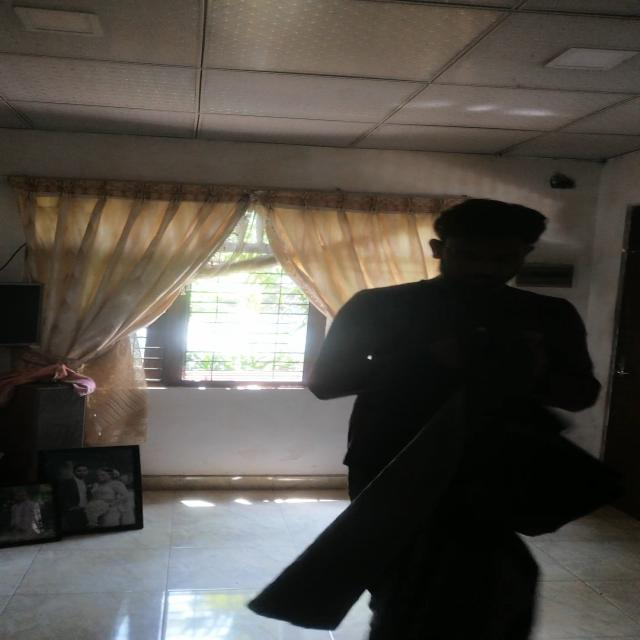Person: (313, 195, 591, 640)
